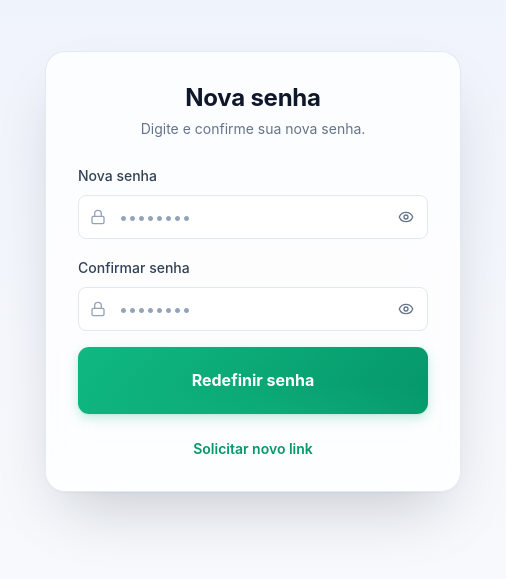
ResetPassword › cada campo tem seu próprio toggle e o erro de confirmação marca só o campo certo
Expected: the password field labelled "Nova senha" is enabled, [78, 194, 428, 238]
Click the button named "Mostrar confirmação de senha": click(406, 308) [384, 286, 428, 330]
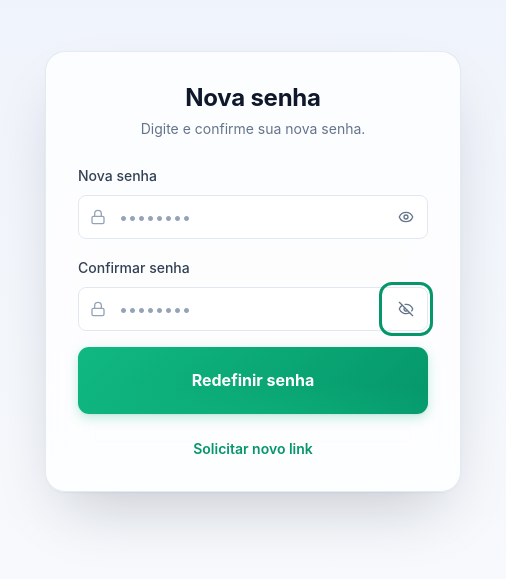
In the password field labelled "Nova senha": (253, 216) [78, 194, 428, 238], type "novasenha1"
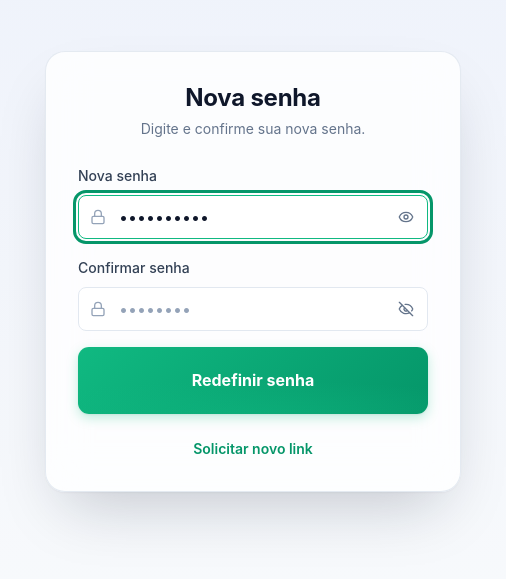
In the field labelled "Confirmar senha": (253, 308) [78, 286, 428, 330], type "outra"
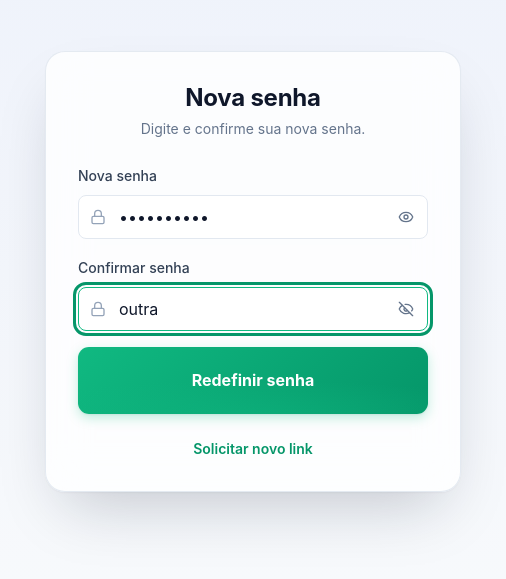
Click the button "Redefinir senha": click(253, 380) [78, 346, 428, 414]
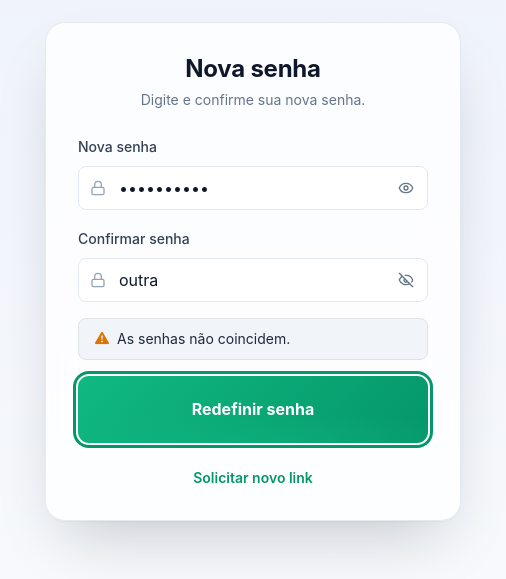
Expected: the message reads "As senhas não coincidem.", [117, 330, 290, 346]
